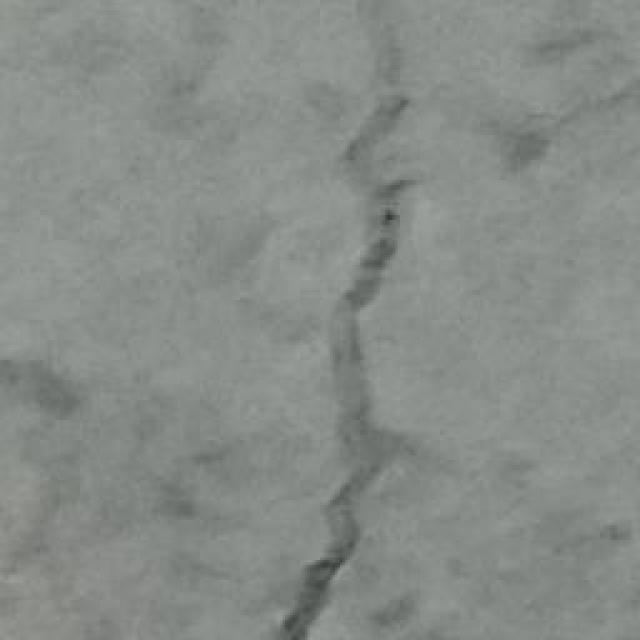Longitudinal: (273, 0, 462, 640)
